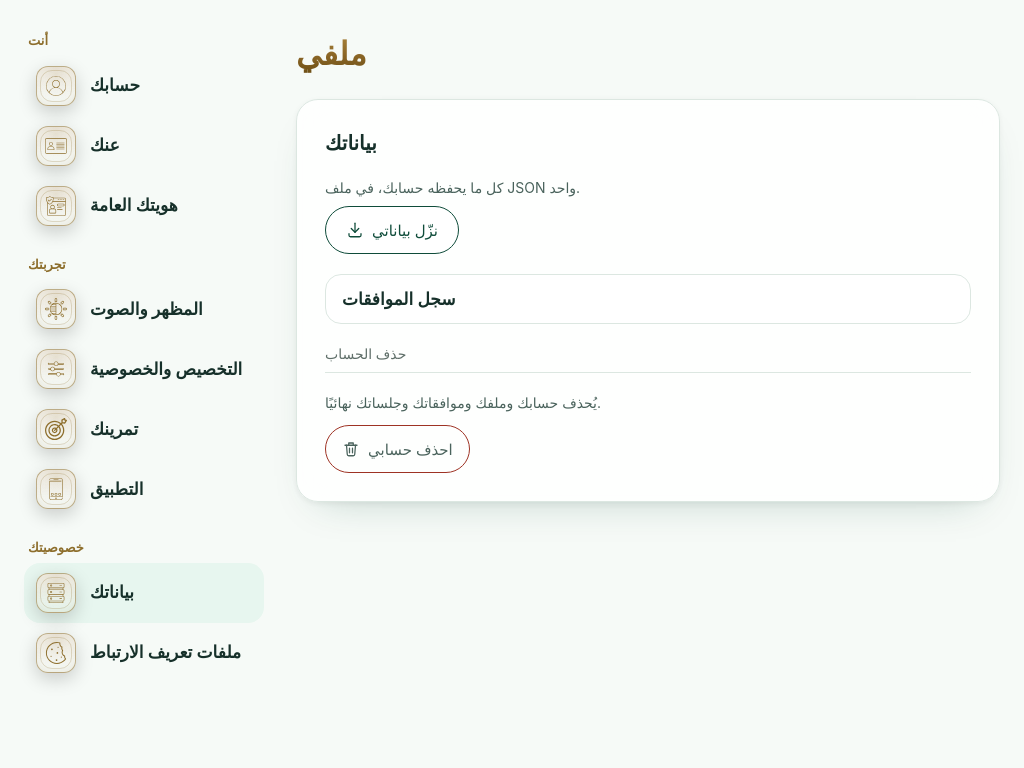
Scenario: MeScreen data › deletes the account only after an in-page confirmation
Click the button "احذف حسابي".
click(397, 449)  # box [325,425,470,473]
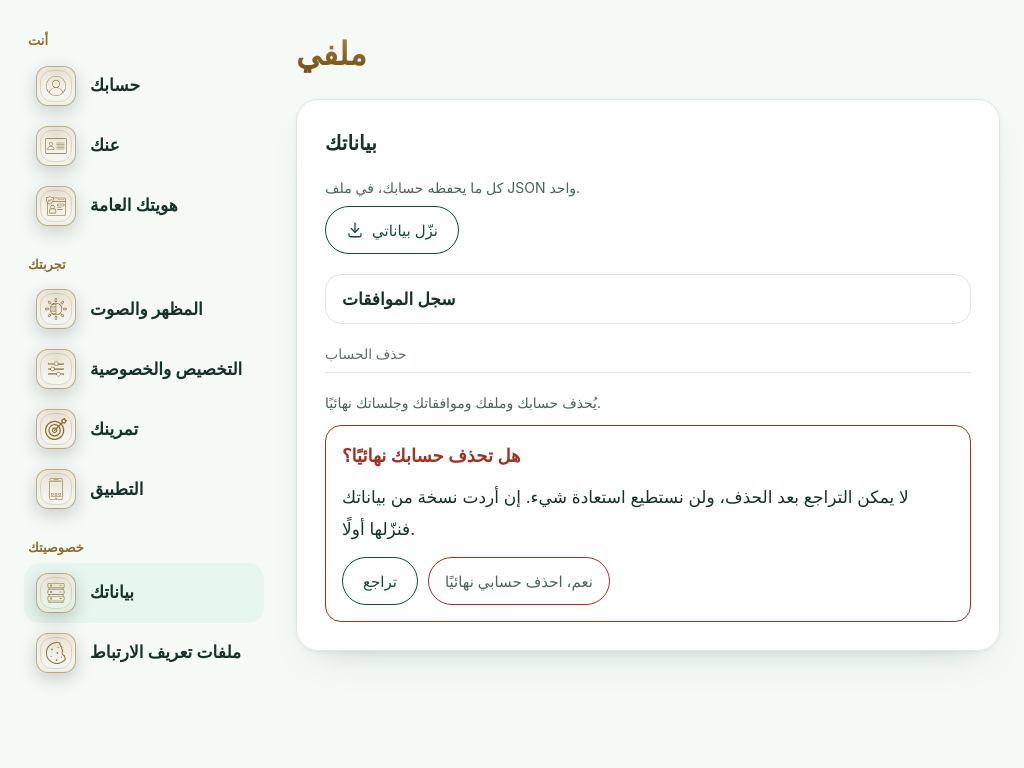
Click the button "تراجع".
click(380, 581)  # box [342,557,418,605]
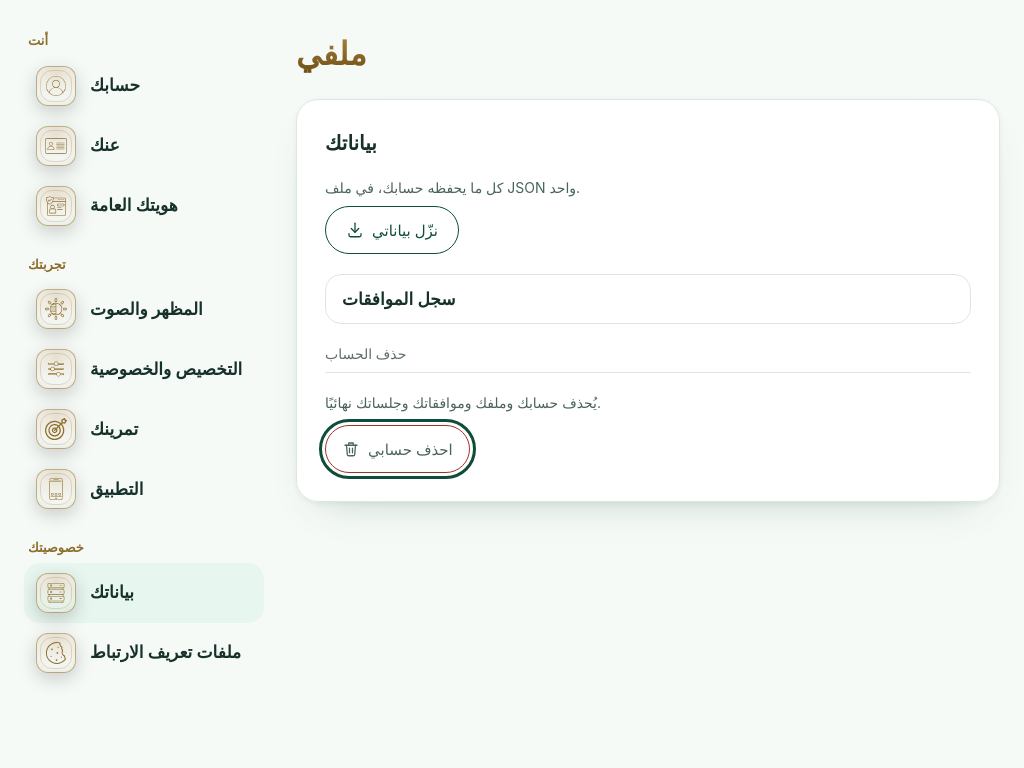
Click the button "احذف حسابي".
click(397, 449)  # box [325,425,470,473]
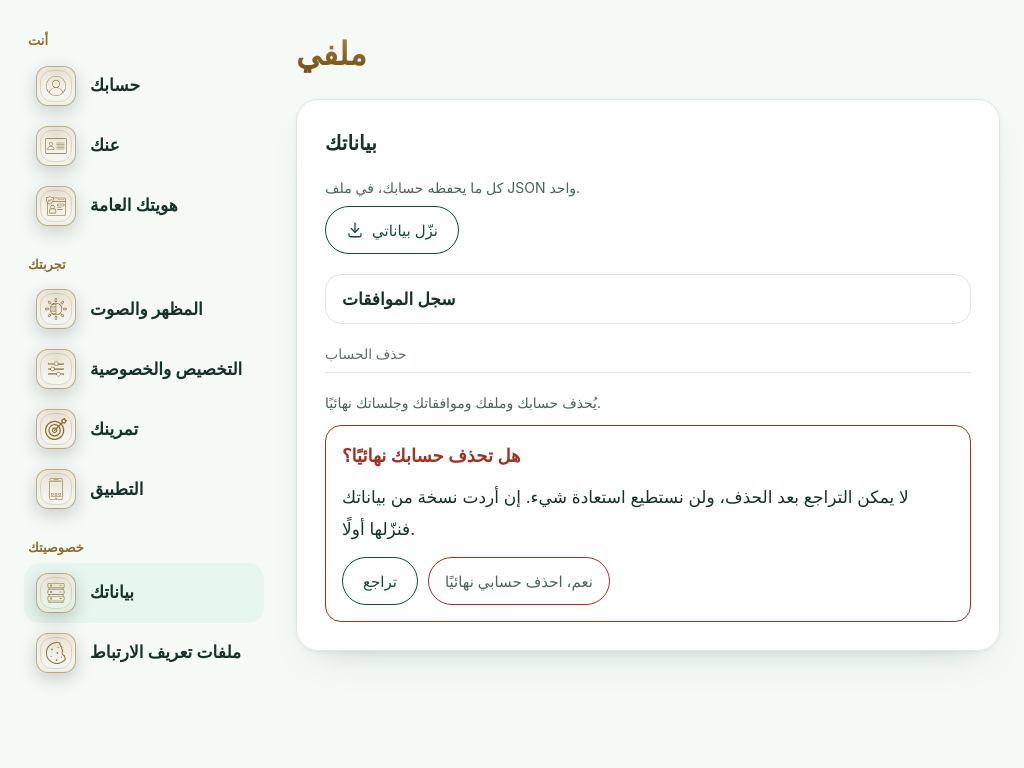
Click the button "نعم، احذف حسابي نهائيًا".
click(519, 581)  # box [428,557,610,605]
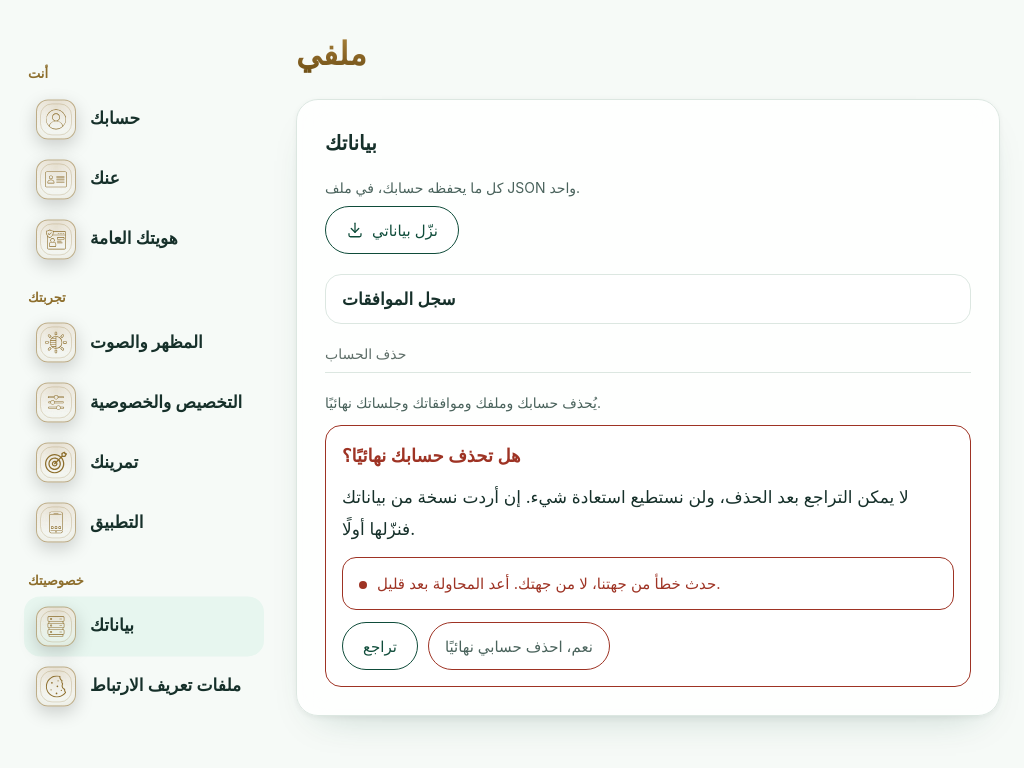
Expected: the text "حدث خطأ من جهتنا، لا من جهتك. أعد المحاولة بعد قليل." is shown, [377,574,720,593]
Click the button "نعم، احذف حسابي نهائيًا".
click(519, 646)  # box [428,622,610,670]
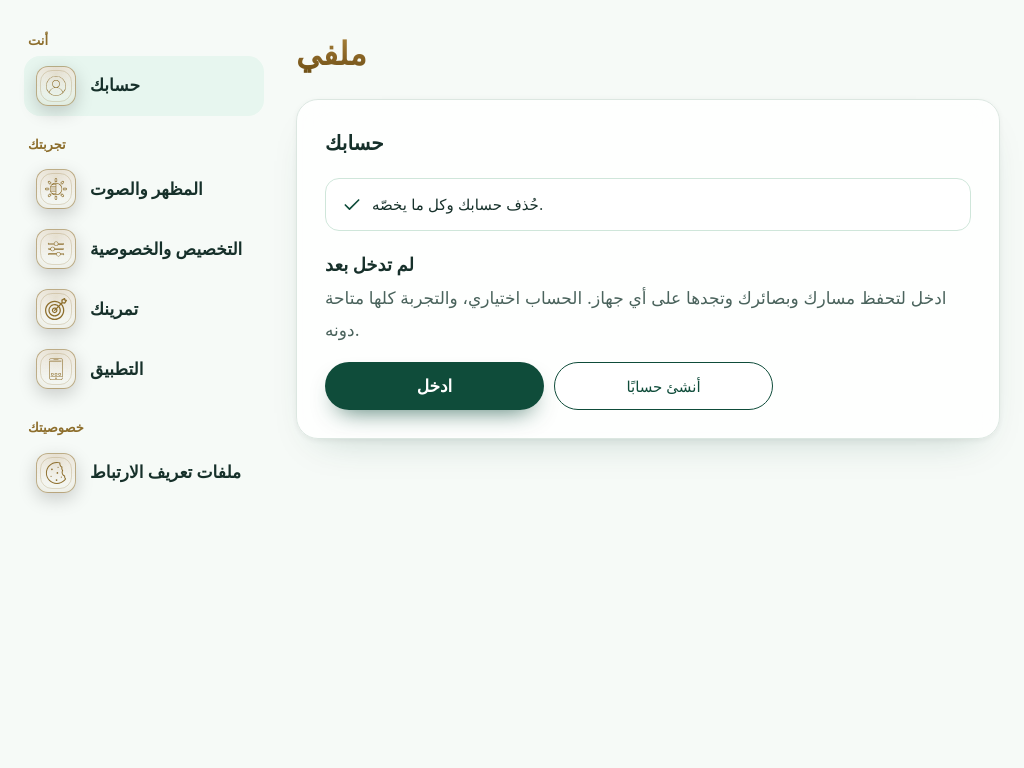
Expected: the text "حُذف حسابك وكل ما يخصّه." is shown, [372,195,543,214]
